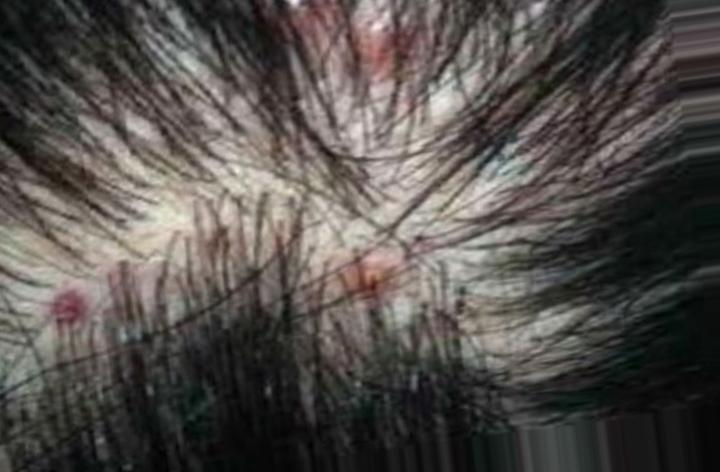Folliculitis: (231, 1, 449, 335)
